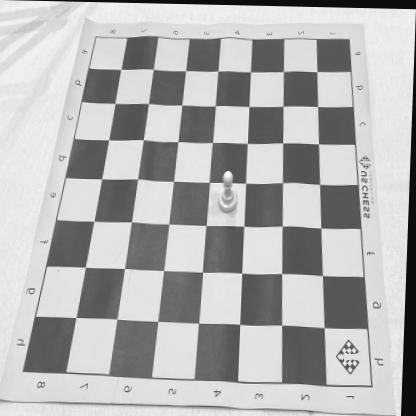white-pawn: (220, 169, 240, 213)
